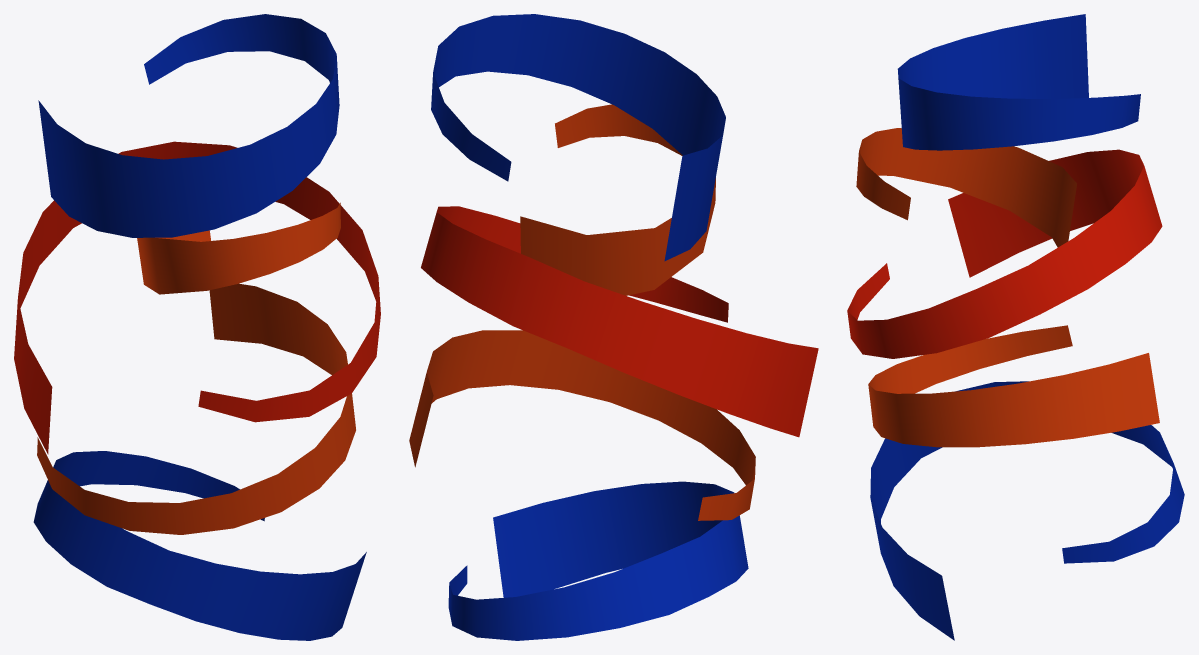
Rendered from Spell-9002-Helix-01.FBX.
3 views of the same model, side by side, from view 1: azimuth 30°, elevation 25°; view 2: azimuth 150°, elevation 25°; view 3: azimuth 270°, elevation 25° (orthographic). The views are drawn at different scales.
Parts seen in each view (by area): view 1: Spell-9002-Helix-01; view 2: Spell-9002-Helix-01; view 3: Spell-9002-Helix-01.
Part boxes in pixels (left/top/right/bottom): Spell-9002-Helix-01: left=14, top=14, right=380, bottom=640; Spell-9002-Helix-01: left=409, top=14, right=818, bottom=640; Spell-9002-Helix-01: left=847, top=14, right=1184, bottom=640.
Bounding box in the file's own units: 4.56 × 7.43 × 4.14.
